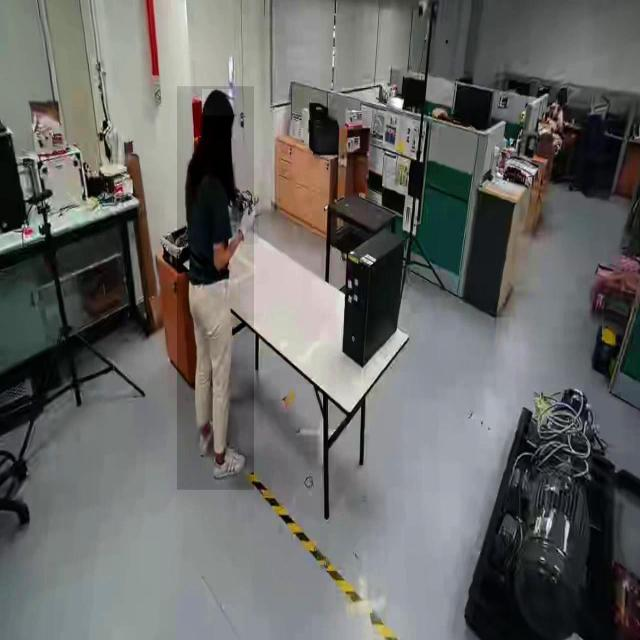hand_glove: (239, 199, 259, 245)
head_nohelmet: (202, 89, 234, 116)
person: (177, 86, 255, 491)
shoes: (211, 442, 247, 482), (196, 414, 216, 459)
